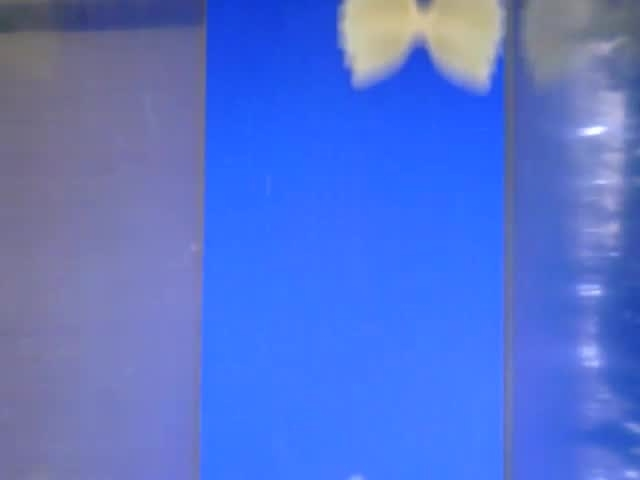farfalle: (338, 1, 505, 96)
